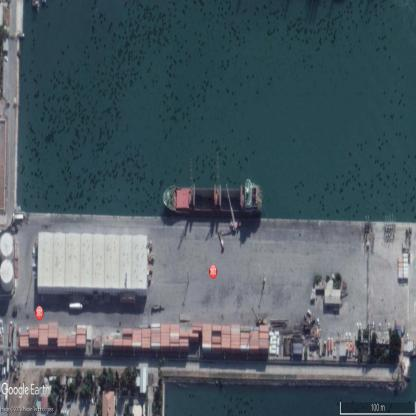ship: (160, 180, 262, 218)
